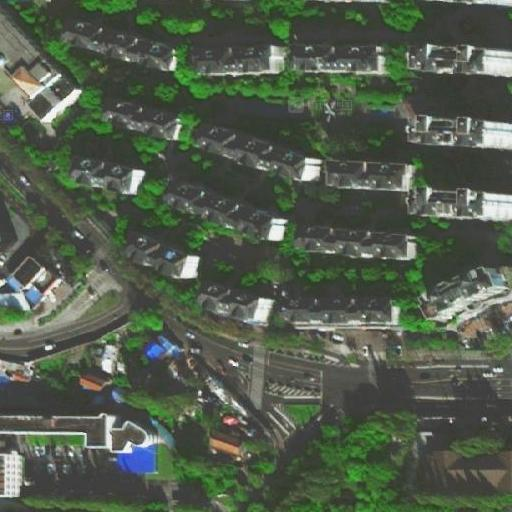building: (169, 180, 286, 246), (69, 17, 185, 75), (202, 130, 319, 186), (9, 52, 83, 131), (422, 268, 512, 323), (0, 4, 52, 96), (423, 441, 512, 490), (305, 227, 417, 262), (102, 99, 184, 145), (404, 40, 512, 74), (9, 243, 65, 301), (72, 159, 147, 200), (290, 303, 401, 330), (408, 123, 511, 152), (416, 191, 512, 222), (297, 47, 391, 78), (201, 284, 273, 324), (330, 164, 415, 194), (200, 48, 284, 77), (136, 237, 189, 280), (105, 421, 153, 460), (349, 91, 404, 114), (143, 333, 177, 364), (211, 434, 244, 460), (79, 370, 109, 395), (97, 347, 120, 374)
